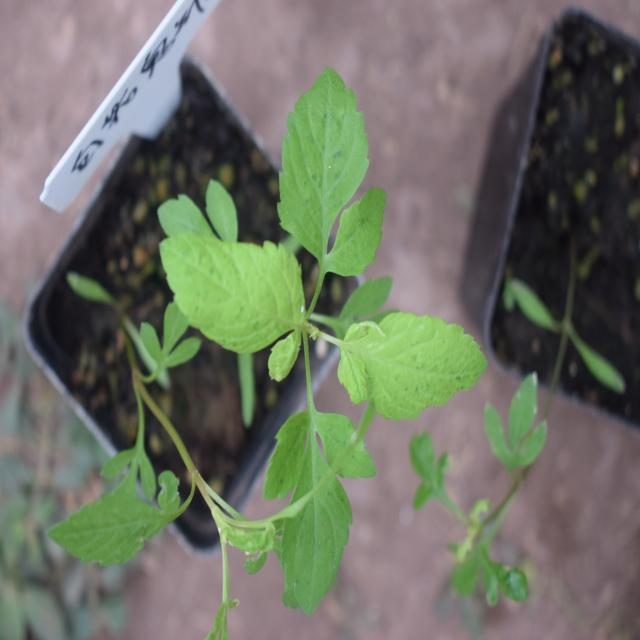Bidens pilosa: (133, 71, 447, 597)
